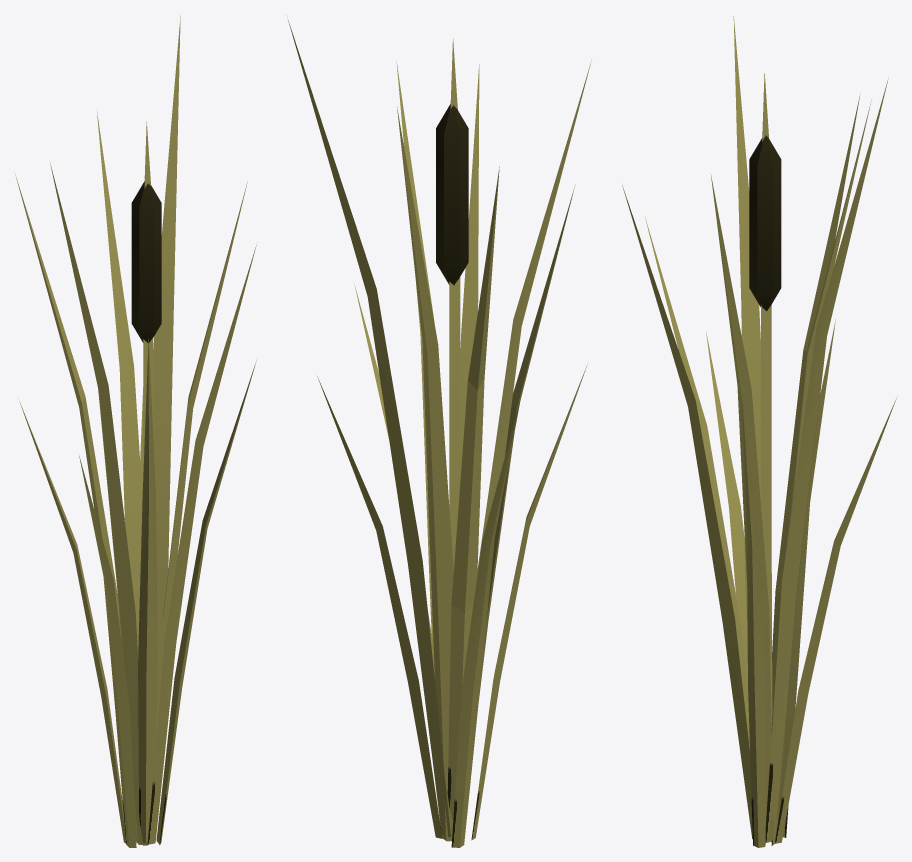
The model's file is ReedmaceC.fbx.
3 renders of one model, left to right at view 1: azimuth 30°, elevation 25°; view 2: azimuth 150°, elevation 25°; view 3: azimuth 270°, elevation 25°, orthographic. The views are drawn at different scales.
Parts seen in each view (by area): view 1: ReedmaceC; view 2: ReedmaceC; view 3: ReedmaceC.
Part boxes in pixels (left/top/right/bottom): ReedmaceC: left=15, top=15, right=256, bottom=847; ReedmaceC: left=288, top=20, right=591, bottom=847; ReedmaceC: left=622, top=16, right=896, bottom=847.
Bounding box in the file's own units: 69.24 × 238 × 73.36.
